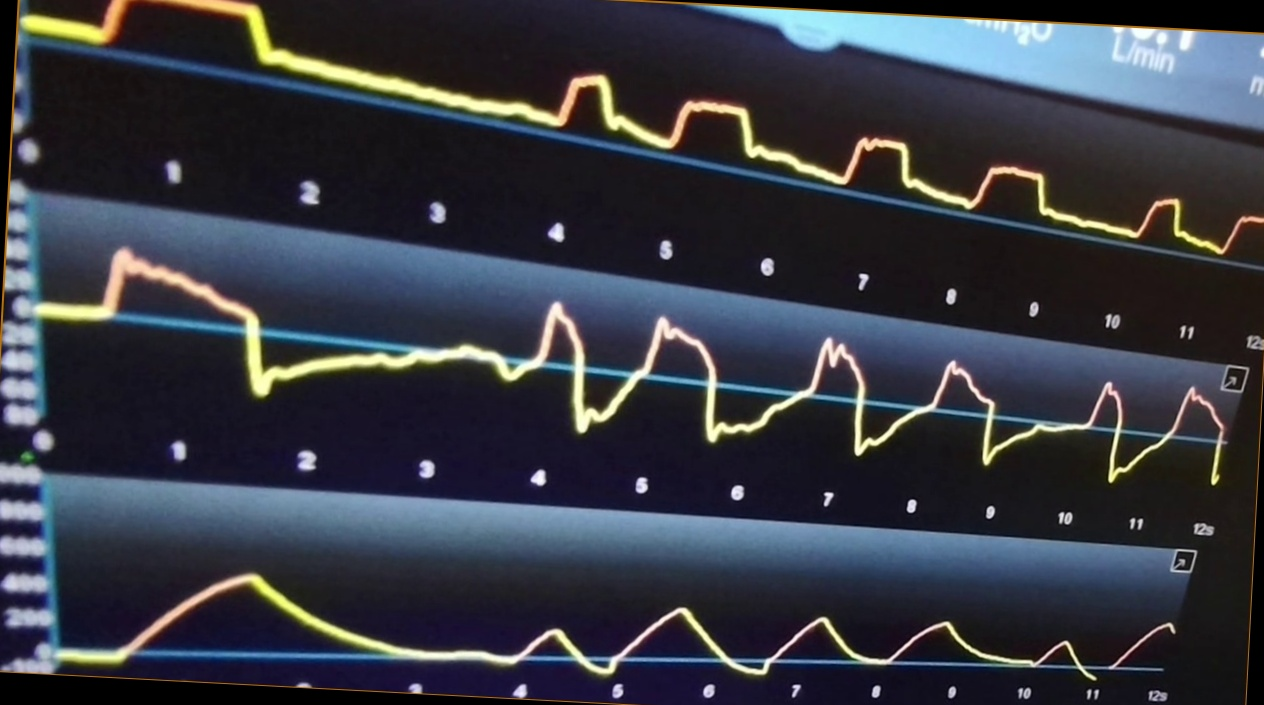Accumulation Flow: (50, 250, 1206, 491)
Volume: (60, 541, 1177, 689)
